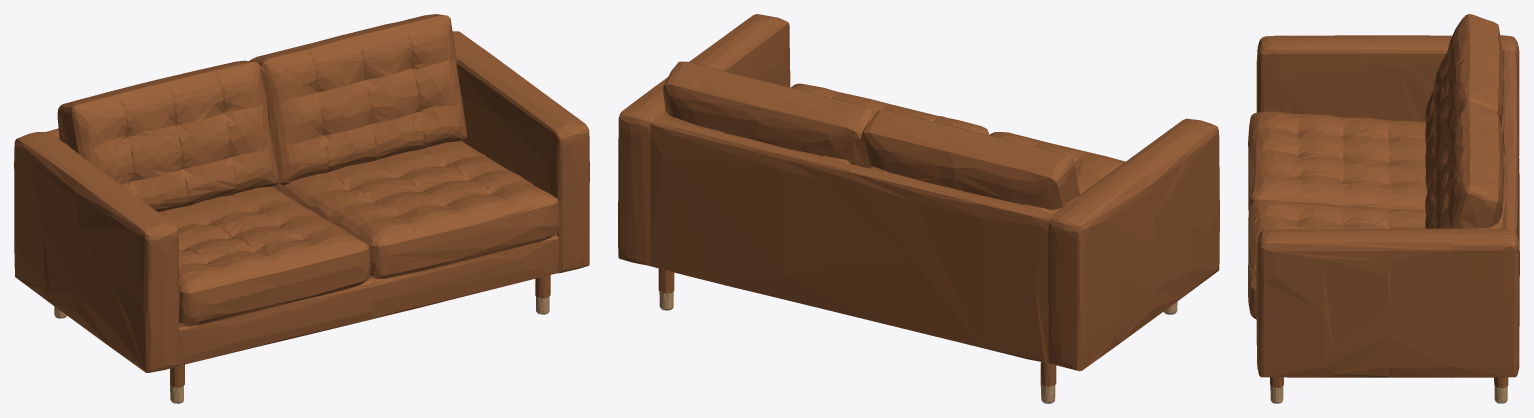
The picture shows the model from 3 angles, left to right: view 1: azimuth 30°, elevation 25°; view 2: azimuth 150°, elevation 25°; view 3: azimuth 270°, elevation 25°; orthographic projection. The views are drawn at different scales.
Parts seen in each view (by area): view 1: ProcessedGeometry; view 2: ProcessedGeometry; view 3: ProcessedGeometry.
Boxes of the visible parts, x1=… form: ProcessedGeometry: x1=14, y1=14, x2=589, y2=403; ProcessedGeometry: x1=618, y1=14, x2=1219, y2=403; ProcessedGeometry: x1=1248, y1=14, x2=1519, y2=403.
Size of the model in its own units: 1.64 by 0.78 by 0.89.
1 material, 1 textured.
